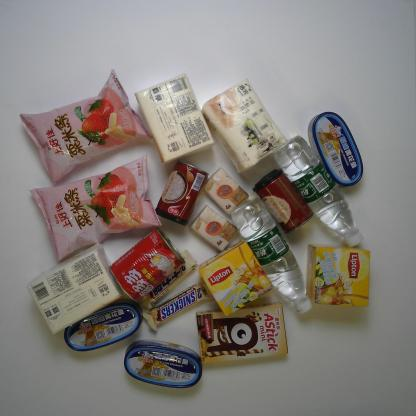Canned Food: (108, 227, 186, 302), (63, 297, 144, 353), (122, 338, 206, 391), (308, 110, 364, 188), (251, 166, 314, 235), (154, 159, 210, 226)
Chocolate: (140, 280, 211, 332), (144, 248, 199, 305)
Dessert: (194, 300, 291, 367)
Drink: (272, 133, 366, 249), (229, 196, 314, 316)
Instant Drink: (198, 238, 273, 317), (305, 242, 373, 309)
Puffed Food: (28, 154, 170, 273), (15, 66, 153, 188)
Tissue: (24, 241, 124, 336), (200, 76, 288, 175), (133, 71, 217, 165), (189, 204, 238, 252), (203, 166, 249, 216)
